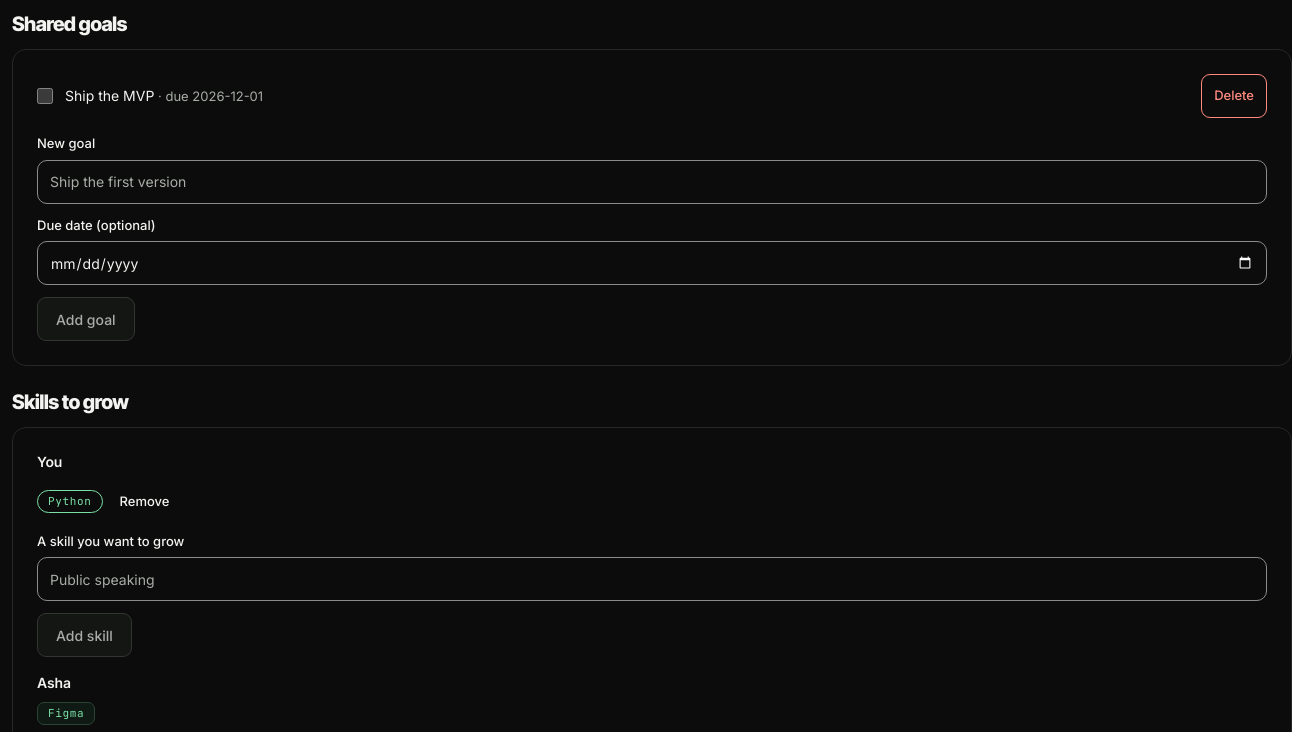
SpaceView › shows API errors where they happened
Type "One more" into the field labelled "New goal". click: {"x": 652, "y": 182}
box: 37,160 -> 1267,204
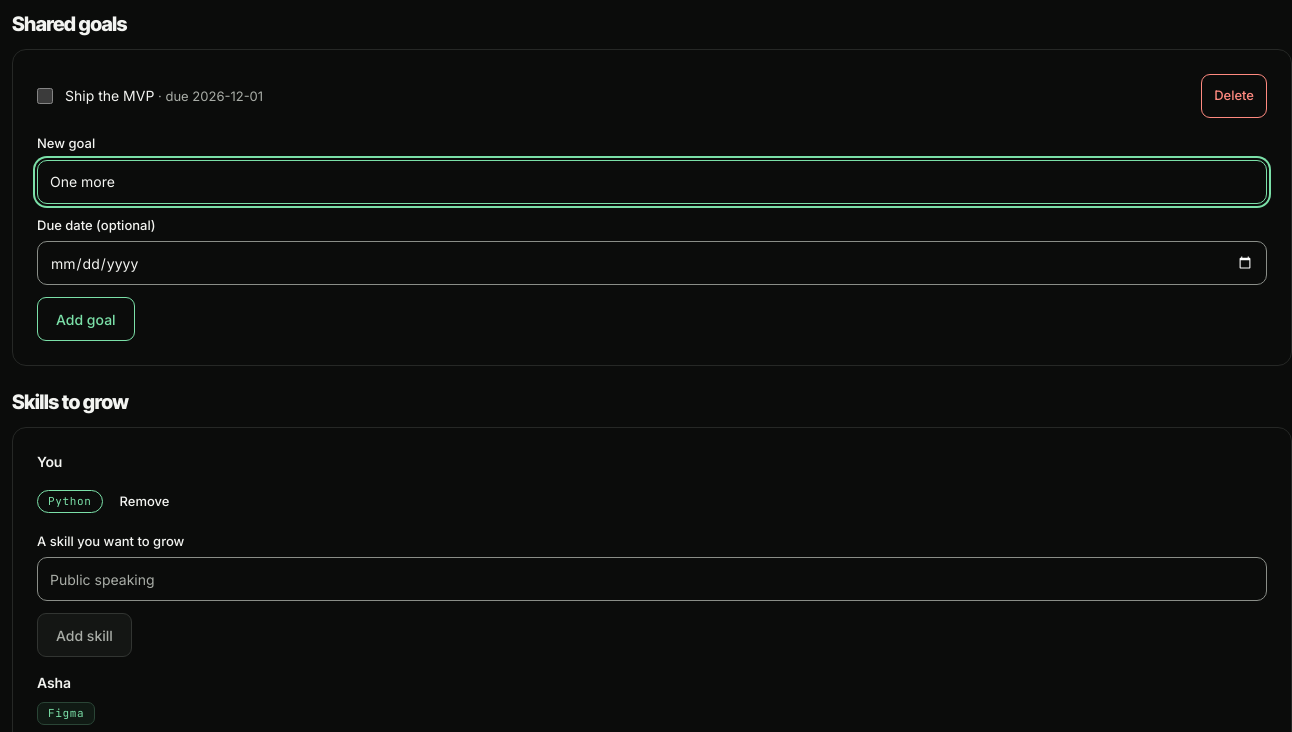
Click the button "Add goal". click: {"x": 86, "y": 319}
box: 37,297 -> 135,341
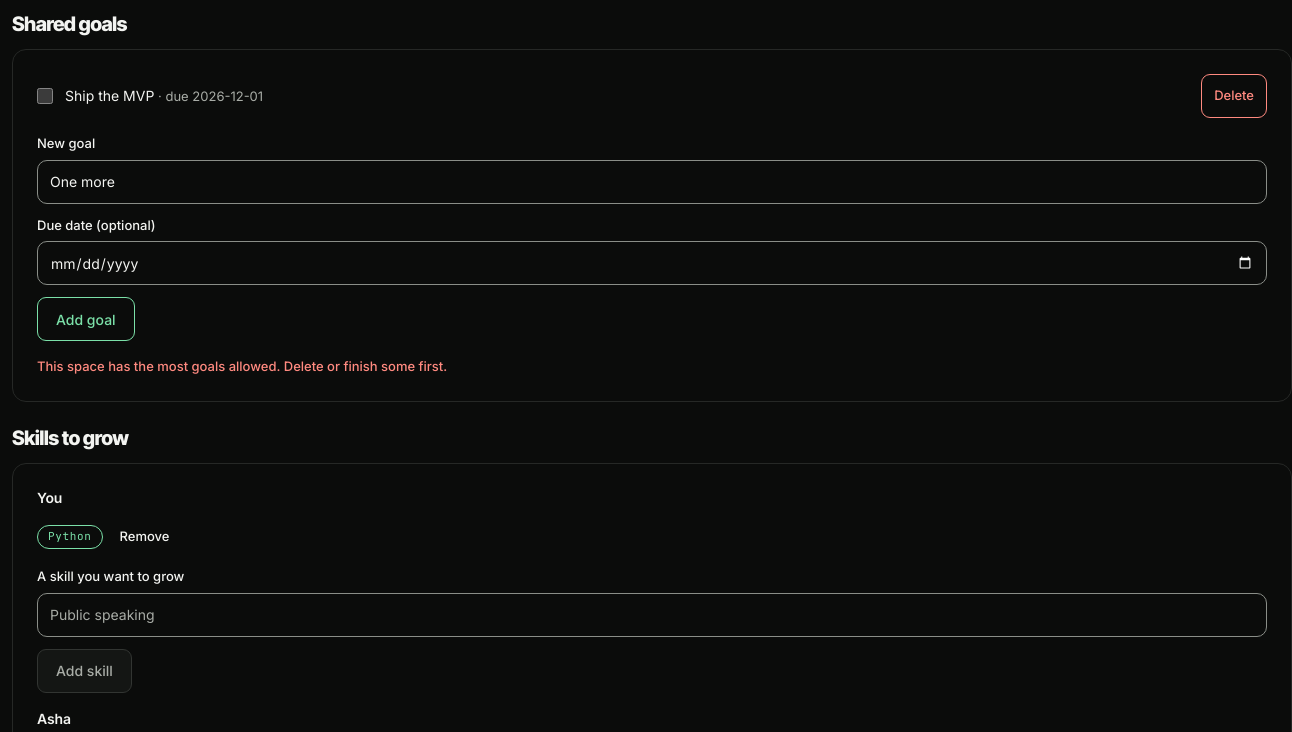
Expected: the message shows "most goals allowed", 37,358 -> 447,374
